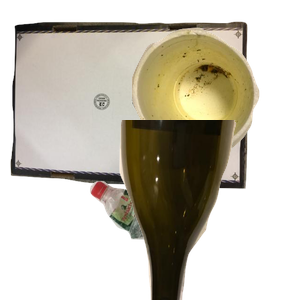cardboard: (10, 19, 250, 199)
glass: (117, 120, 300, 300)
plastic: (87, 178, 234, 300)
trash: (129, 25, 300, 173)
